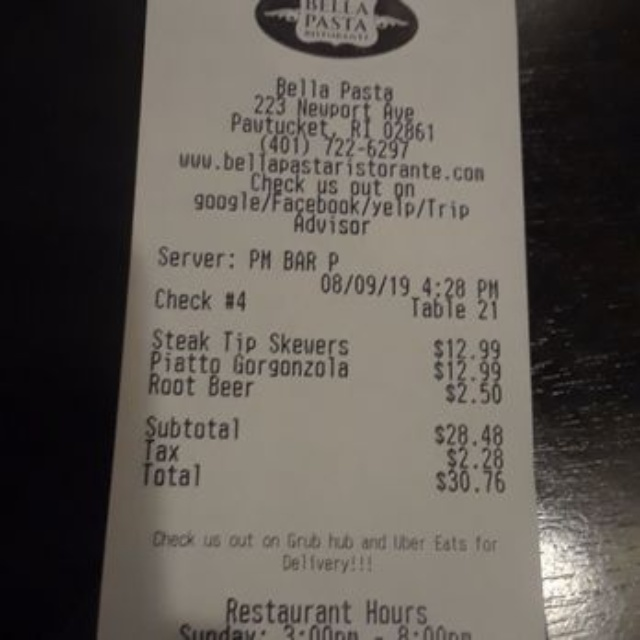invoice_table: (147, 326, 503, 407)
invoice_title: (227, 74, 437, 160)
invoice_total: (139, 463, 506, 494)
